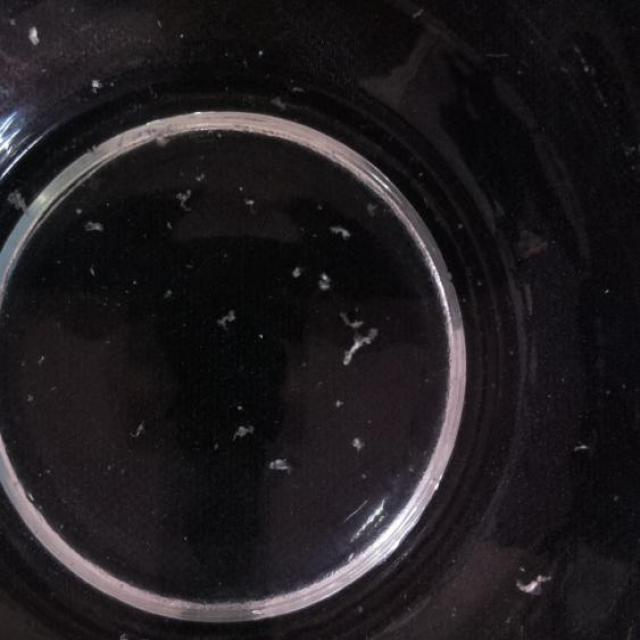fiber: (341, 313, 383, 369), (514, 566, 558, 599), (0, 187, 37, 219), (173, 178, 194, 216), (230, 418, 260, 444), (215, 305, 240, 335), (266, 454, 297, 478), (349, 433, 374, 458), (23, 24, 46, 49), (328, 222, 356, 242), (241, 192, 260, 215), (569, 439, 592, 457), (132, 422, 152, 441), (317, 272, 335, 293), (91, 76, 106, 97), (82, 218, 104, 232), (334, 399, 357, 411), (156, 130, 174, 145), (363, 202, 382, 214), (86, 261, 97, 279), (294, 264, 302, 280)
